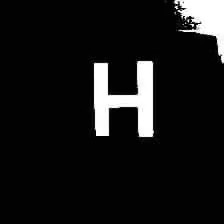LTR_H: (86, 47, 158, 142)
